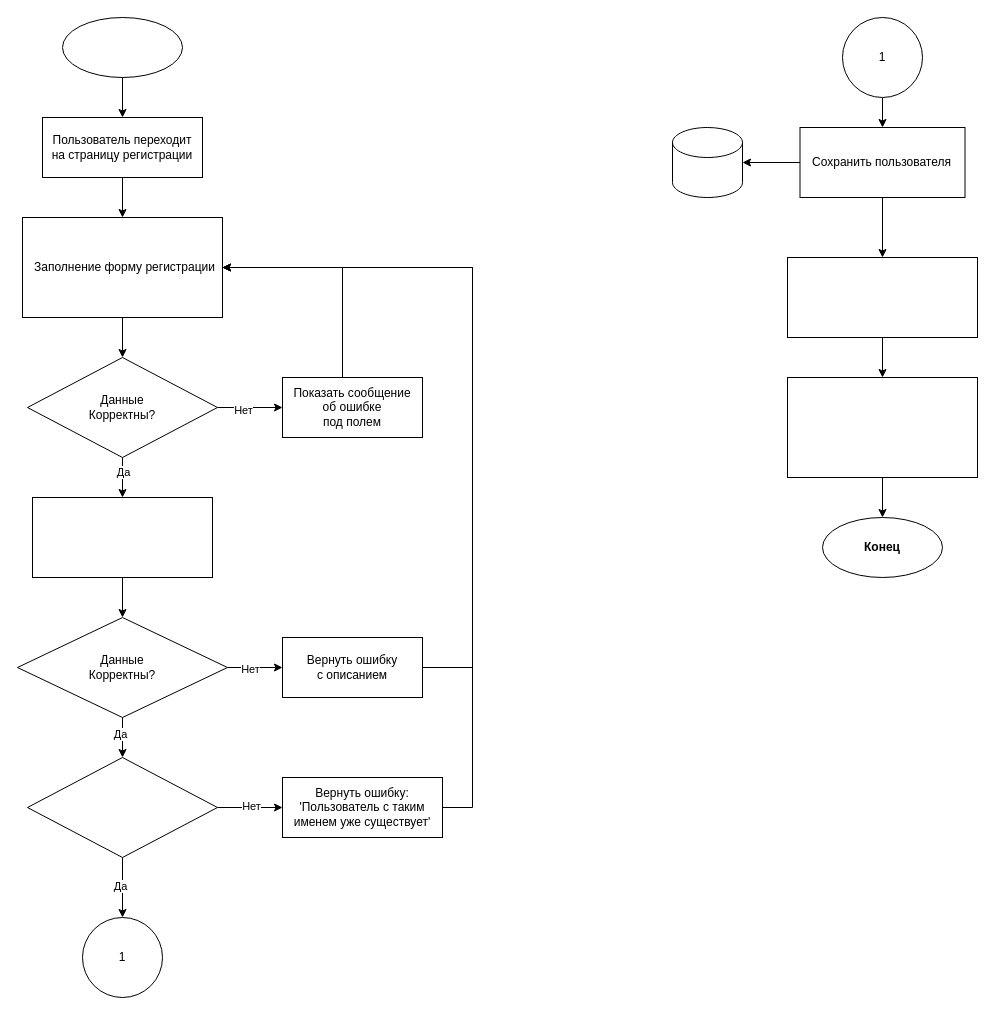
This 995x1015 diagram has some shape labels left out. The shapes that lost their labels are listed below. From the top down, each one's centre as x and y in pixels, then its label:
At (x=122, y=47): "Начало".
At (x=707, y=162): "БД".
At (x=882, y=297): "Вернуть ответ об успешном создании пользвоателя".
At (x=882, y=427): "Перенаправить пользователя на страницу личного кабинета".
At (x=122, y=537): "Отправка запроса API".
At (x=122, y=807): "Username и Email уникальны?".
